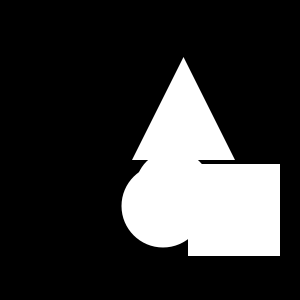circle: (188, 164, 280, 256)
rectangle: (122, 164, 204, 248), (136, 150, 210, 226)
triangle: (132, 57, 235, 160)
